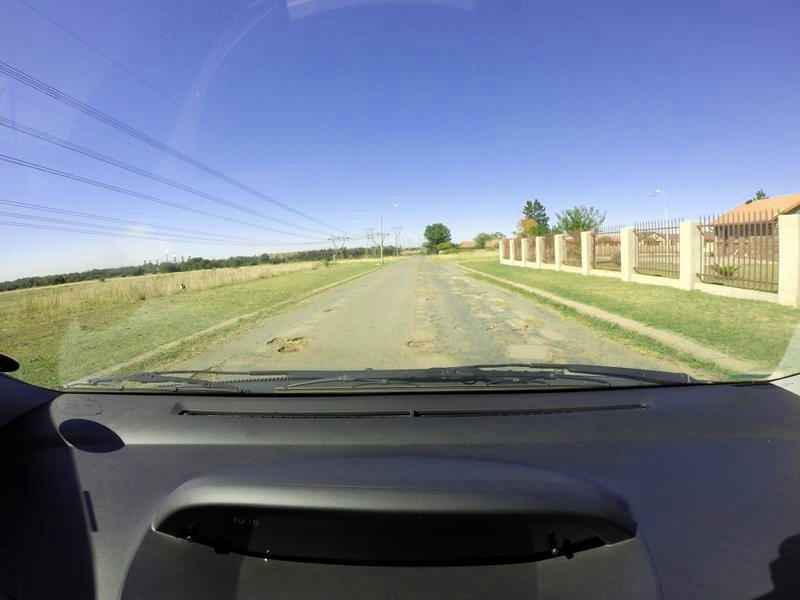pothole: (262, 327, 316, 361), (400, 334, 455, 352), (517, 309, 545, 336), (321, 299, 338, 312), (485, 320, 499, 335), (432, 313, 442, 331), (425, 295, 443, 302), (498, 297, 507, 309)
